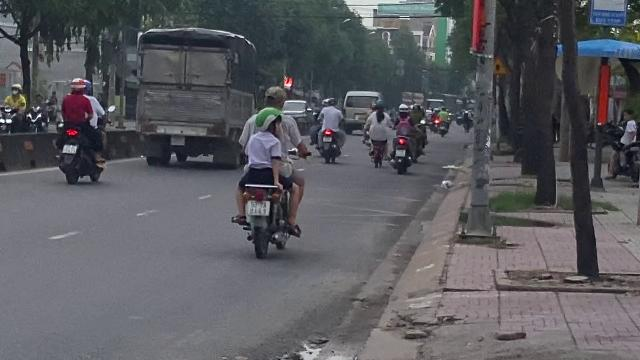helmet: (252, 106, 282, 138), (68, 78, 86, 94)
licenseplate: (247, 200, 269, 216), (63, 144, 77, 154)
motorcyclist: (228, 82, 306, 258), (52, 74, 112, 187)
nohelmet: (262, 86, 286, 108)
